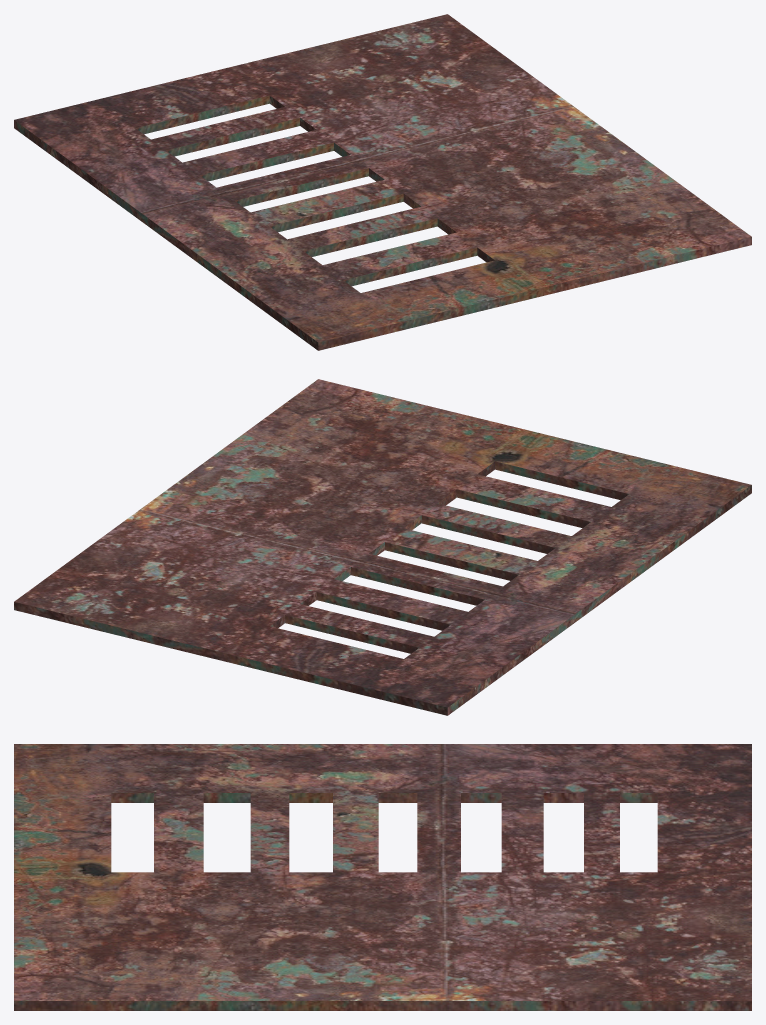
File: gate.fbx
The picture shows the model from 3 angles, top to bottom: view 1: azimuth 30°, elevation 25°; view 2: azimuth 150°, elevation 25°; view 3: azimuth 270°, elevation 25°; orthographic projection. The views are drawn at different scales.
Parts seen in each view (by area): view 1: Model; view 2: Model; view 3: Model.
Boxes of the visible parts, left/top/right/bottom form: Model: left=14, top=14, right=751, bottom=350; Model: left=14, top=379, right=751, bottom=715; Model: left=14, top=744, right=751, bottom=1010.
Size of the model in its own units: 65.31 by 1.19 by 79.36.
